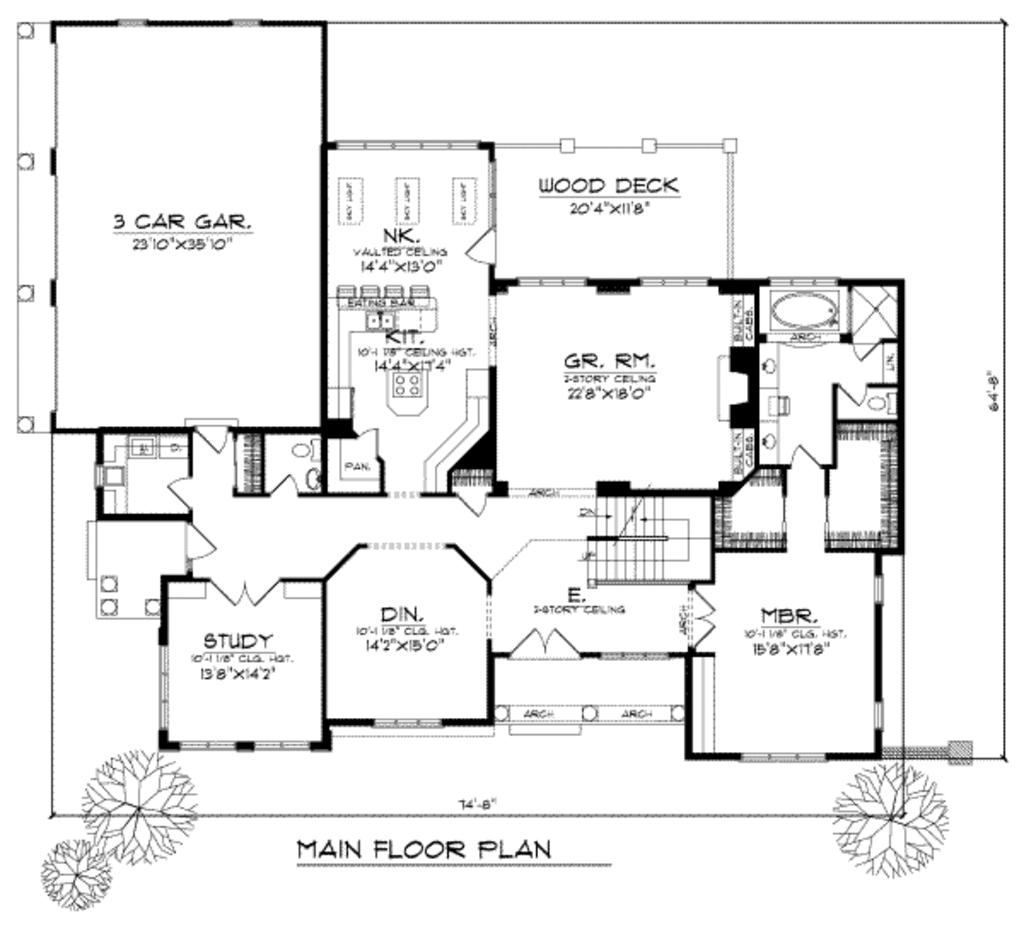door: (208, 572, 287, 614), (509, 625, 575, 662), (686, 583, 719, 651), (465, 227, 509, 269), (180, 517, 219, 562), (188, 422, 239, 454), (265, 471, 304, 504), (829, 375, 866, 407), (165, 475, 196, 510), (789, 441, 822, 472)
kitchen_bar: (335, 283, 447, 336)
large_sink: (282, 433, 326, 467), (866, 385, 901, 419)
stairs: (577, 497, 715, 592)
tub: (757, 286, 849, 335)
windows: (172, 736, 312, 761), (329, 138, 484, 156), (509, 267, 592, 291), (153, 639, 173, 734), (736, 746, 831, 765), (634, 270, 712, 293), (369, 712, 440, 733)
